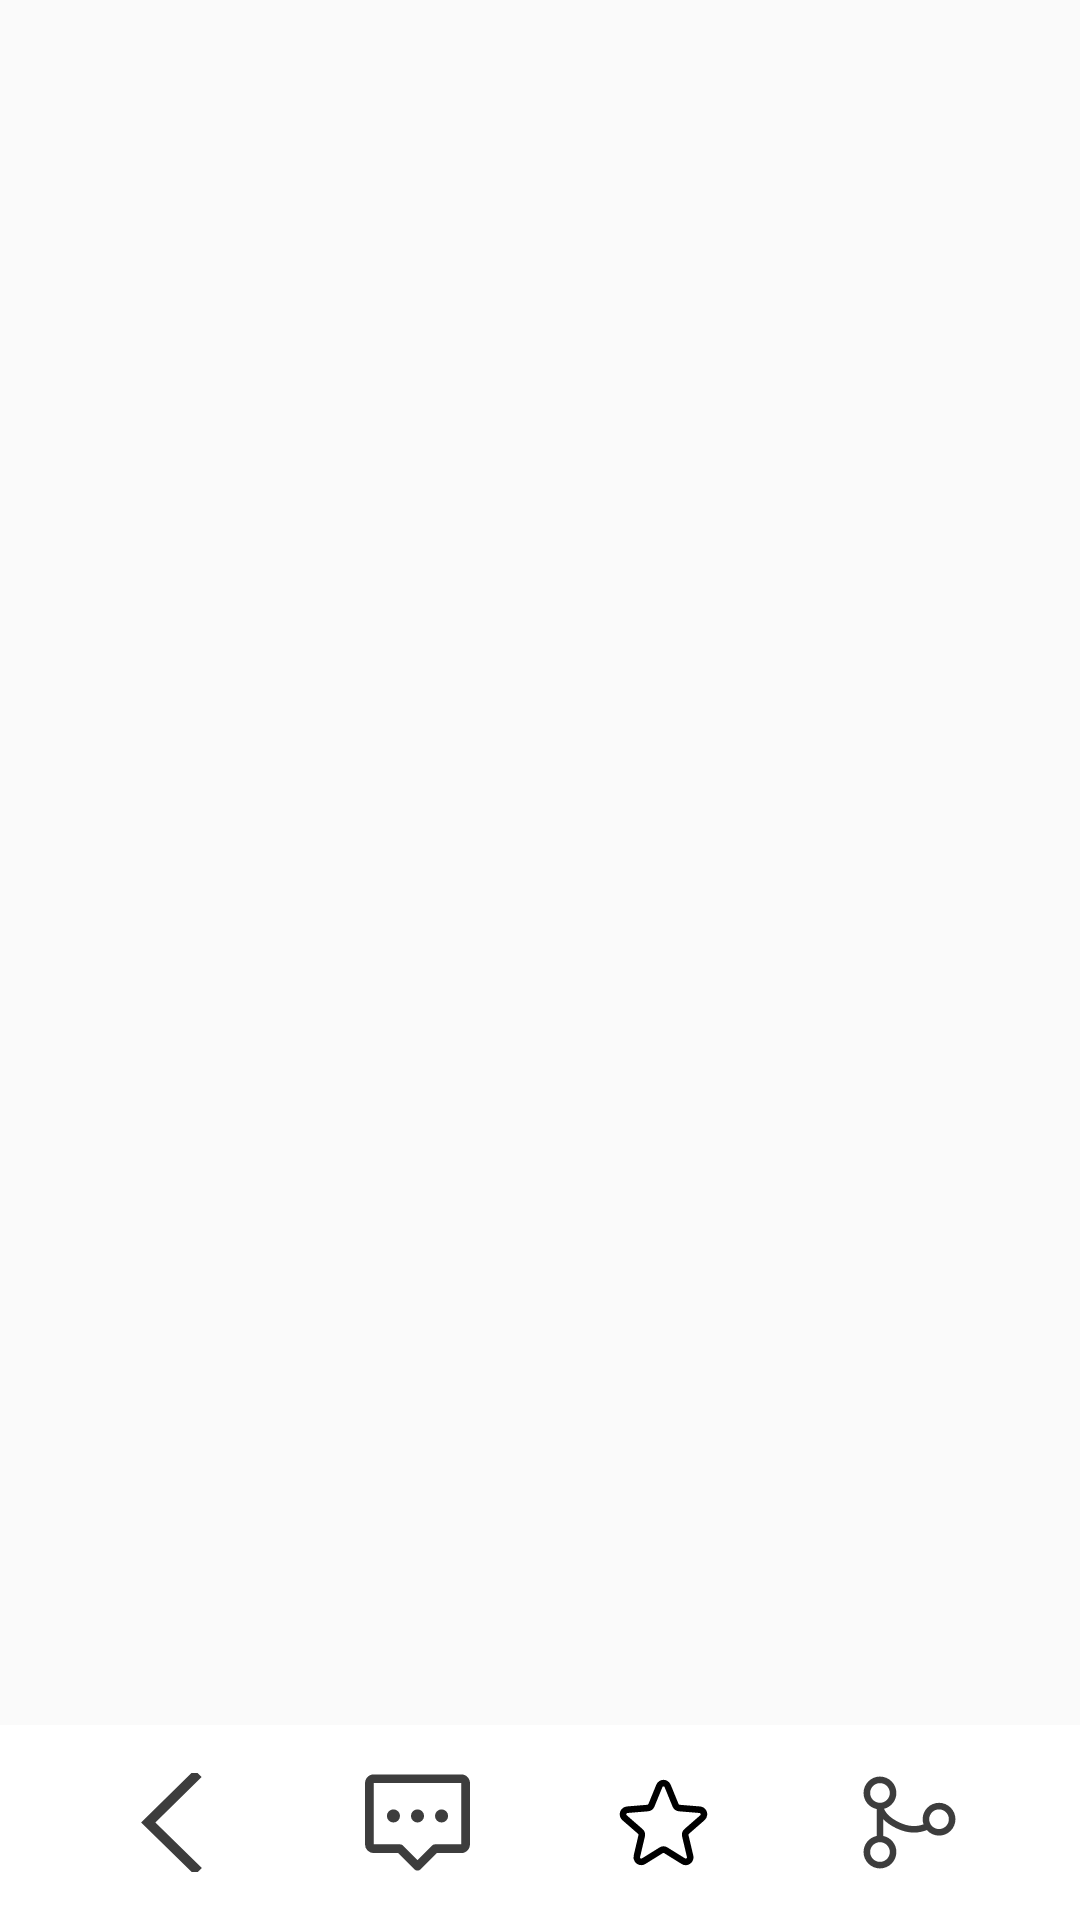

Screen size 1080 x 1920. Icon name, then its center in pixels as (x=x, y=y):
分享: (x=909, y=1822)
收藏: (x=663, y=1822)
评论: (x=417, y=1822)
返回: (x=171, y=1822)
